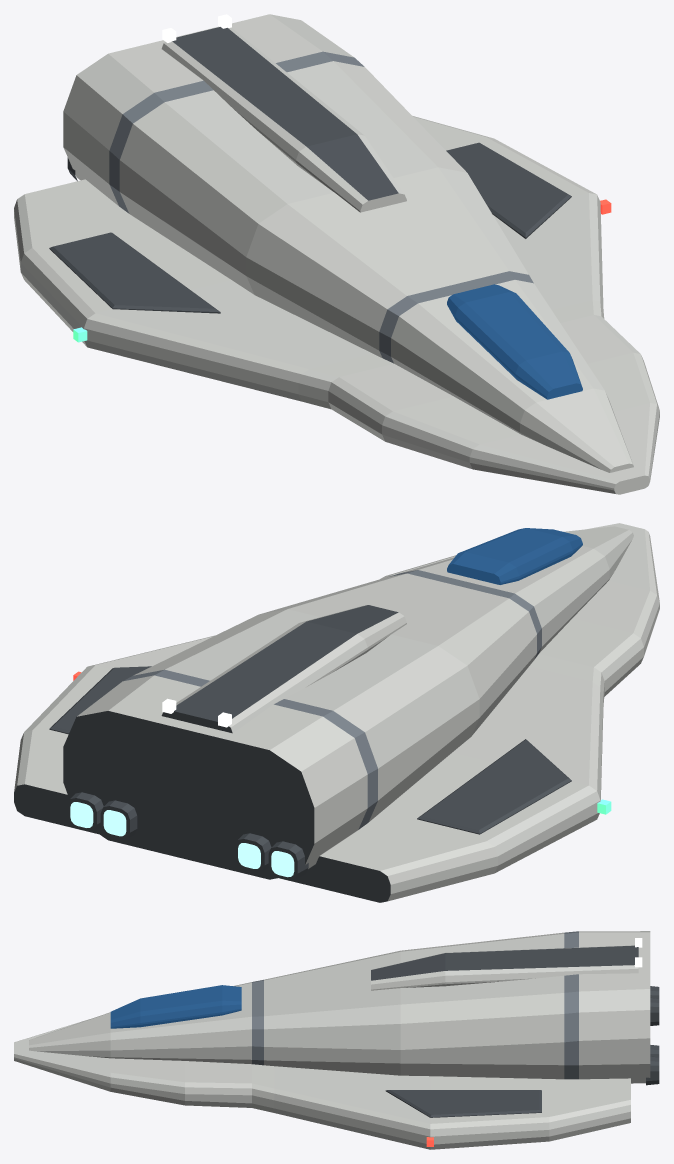
Rendered from python.glb.
The picture shows the model from 3 angles, top to bottom: view 1: azimuth 30°, elevation 25°; view 2: azimuth 150°, elevation 25°; view 3: azimuth 270°, elevation 25°; orthographic projection. The views are drawn at different scales.
Visible parts, largest first — view 1: python; view 2: python; view 3: python.
Part boxes in pixels (x1,y1,x2,y2): python: (14, 14, 659, 494); python: (14, 523, 659, 902); python: (14, 931, 659, 1149).
Size of the model in its own units: 59.4 by 19.18 by 86.88.
